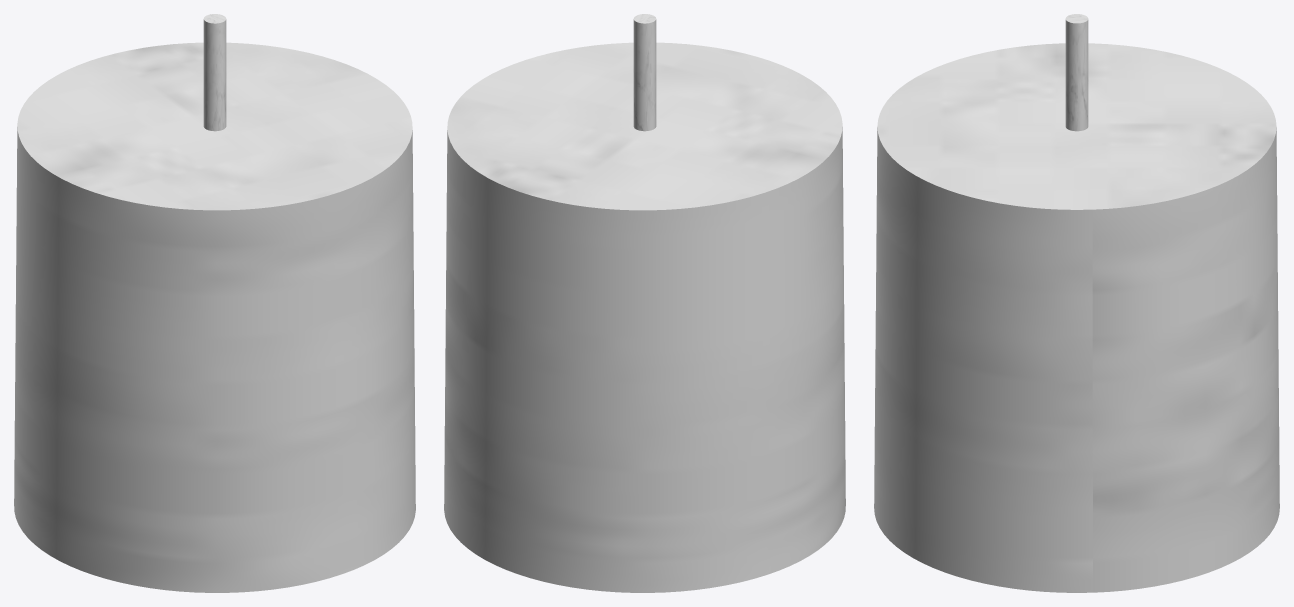
File: new_living_light.fbx
3 renders of one model, left to right at view 1: azimuth 30°, elevation 25°; view 2: azimuth 150°, elevation 25°; view 3: azimuth 270°, elevation 25°, orthographic.
Visible parts, largest first — view 1: polySurface161; view 2: polySurface161; view 3: polySurface161.
Boxes of the visible parts, box(x1,y1,x2,y2) form: polySurface161: box(14, 14, 415, 592); polySurface161: box(444, 14, 845, 592); polySurface161: box(874, 14, 1279, 592).
Bounding box in the file's own units: 1.89 × 2.54 × 1.91.
